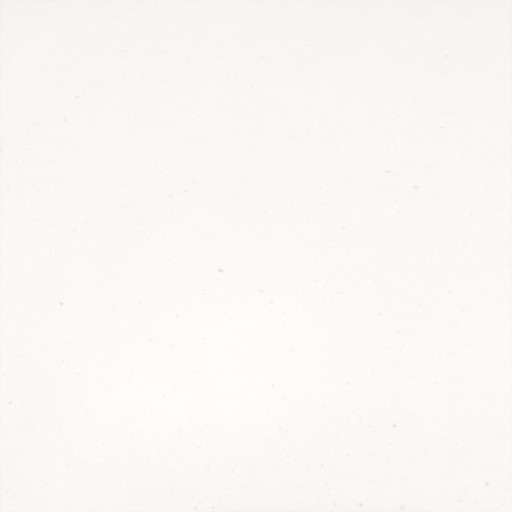lego: (214, 221, 297, 293)
